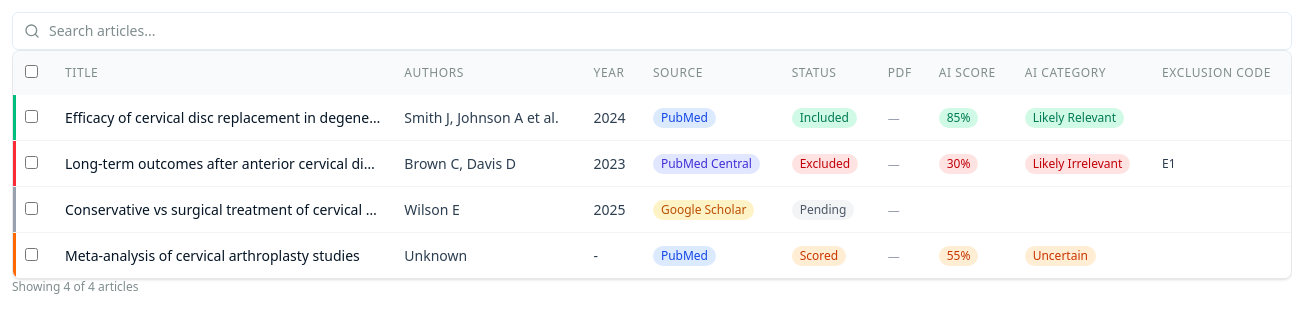
ArticleTable › selects an individual article checkbox
Expected: the row with test id "article-row-art-1" is shown, [13, 95, 1291, 140]
Click the checkbox with test id "select-article-art-1" at (32, 116), box [25, 110, 38, 122]
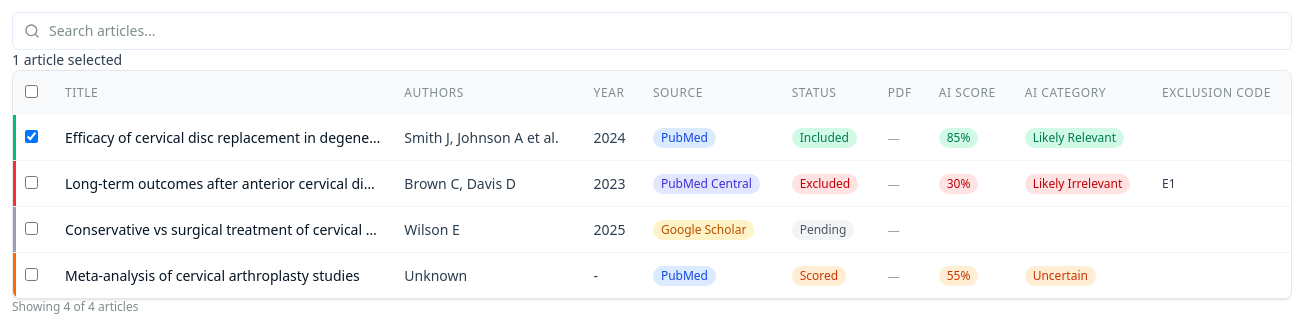
Expected: the text with test id "selection-count" reads "1 article selected", [12, 50, 122, 69]
